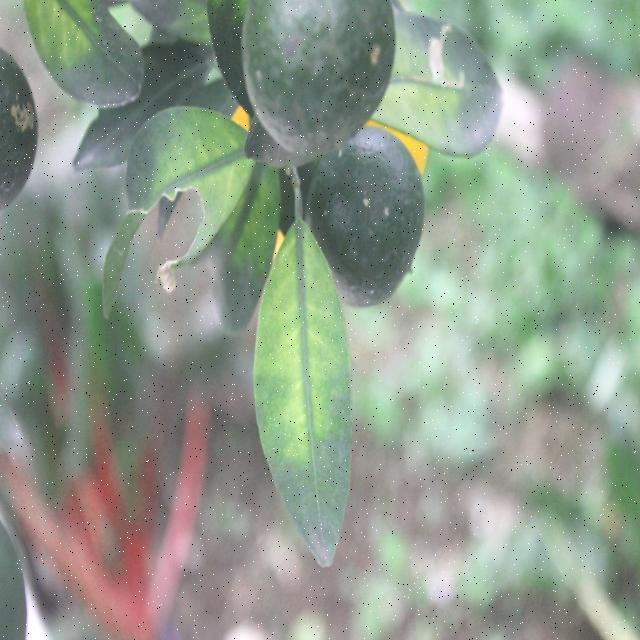greening: (255, 219, 353, 541), (398, 15, 484, 138), (27, 0, 129, 86)
